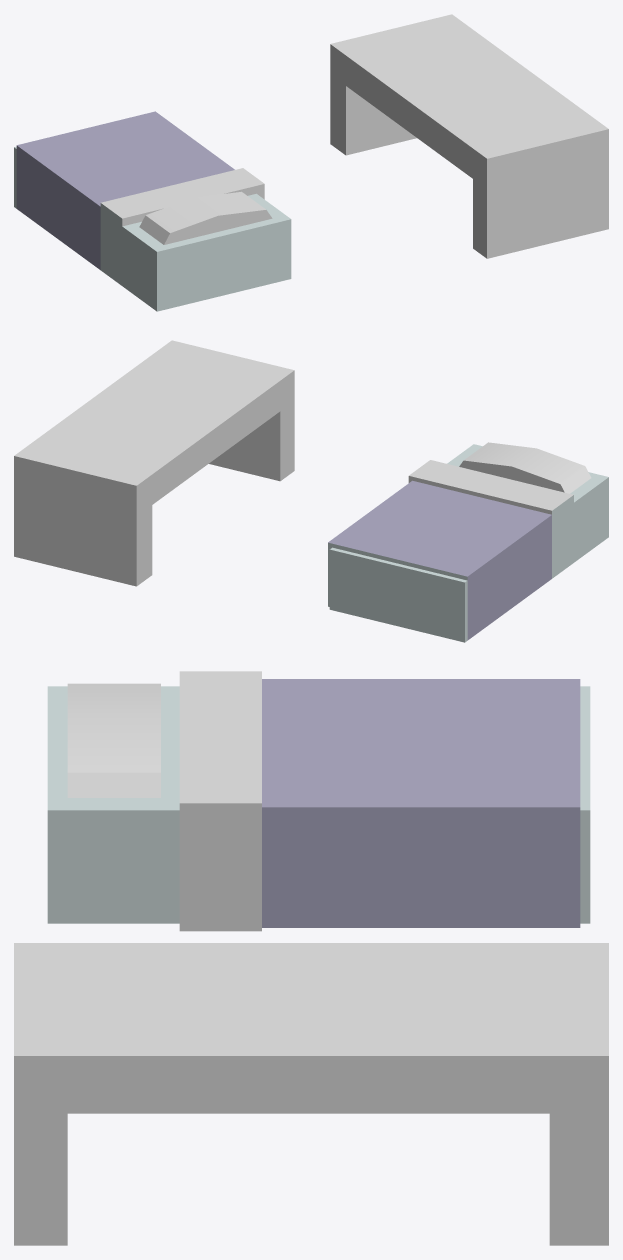
The model's file is tutorial_bedroom.fbx.
3 renders of one model, top to bottom at view 1: azimuth 30°, elevation 25°; view 2: azimuth 150°, elevation 25°; view 3: azimuth 270°, elevation 25°, orthographic. The views are drawn at different scales.
Visible parts, largest first — view 1: desk, bed; view 2: desk, bed; view 3: bed, desk.
Part boxes in pixels (<box>): desk: <box>330,14,608,258</box>; bed: <box>14,111,291,311</box>; desk: <box>14,340,294,586</box>; bed: <box>328,442,608,642</box>; bed: <box>47,671,590,931</box>; desk: <box>14,943,608,1245</box>.
Bounding box in the file's own units: 10.46 × 2.26 × 6.42.
